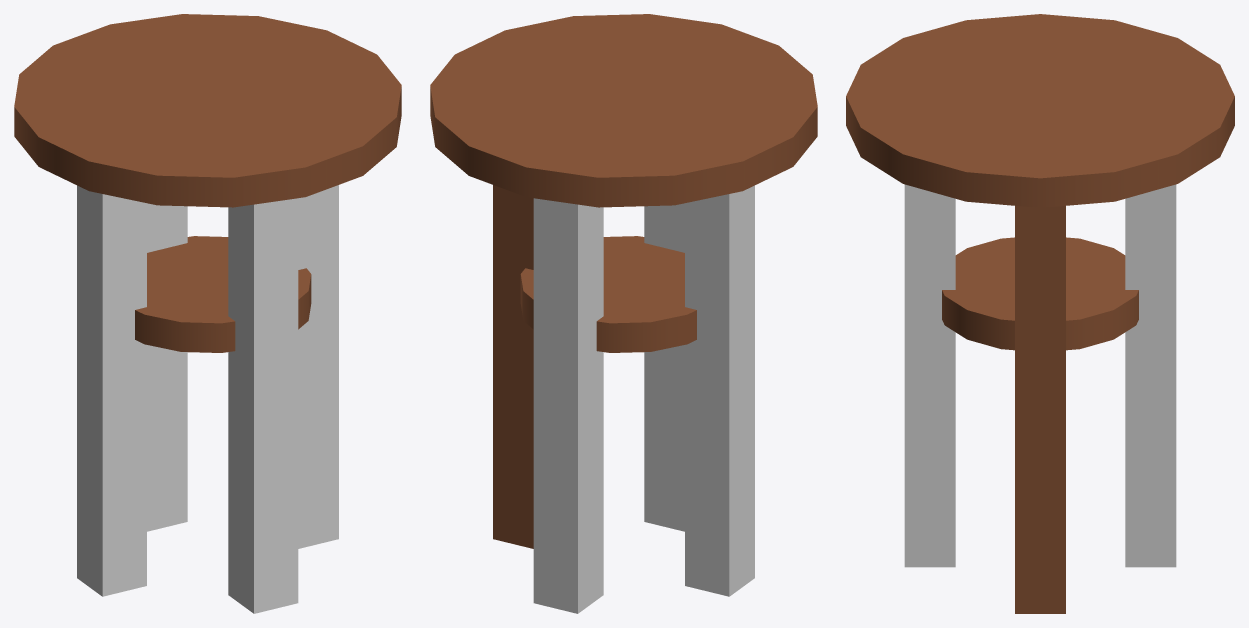
The model's file is SM_SmallTable_001.fbx.
The picture shows the model from 3 angles, left to right: view 1: azimuth 30°, elevation 25°; view 2: azimuth 150°, elevation 25°; view 3: azimuth 270°, elevation 25°; orthographic projection.
Parts seen in each view (by area): view 1: Salontafeltje; view 2: Salontafeltje; view 3: Salontafeltje.
Part boxes in pixels (bbox=[...]): Salontafeltje: bbox=[14, 14, 401, 613]; Salontafeltje: bbox=[430, 14, 817, 613]; Salontafeltje: bbox=[846, 14, 1234, 613].
Bounding box in the file's own units: 0.2615 × 0.3415 × 0.2615.
